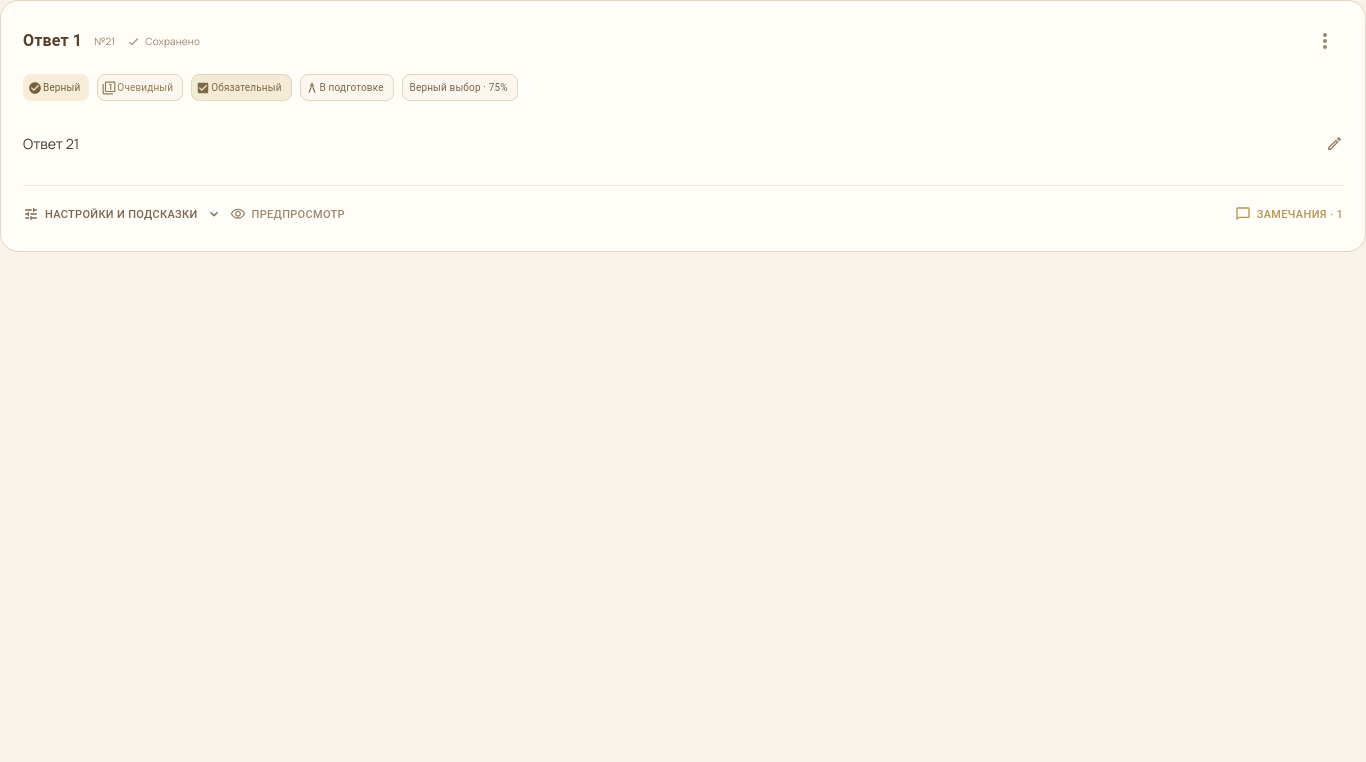
Test case: settings open and reopen with Redux drafts, and initial hydration never saves
Click the button "Настройки и подсказки" at (120, 214), box [23,199,218,229]
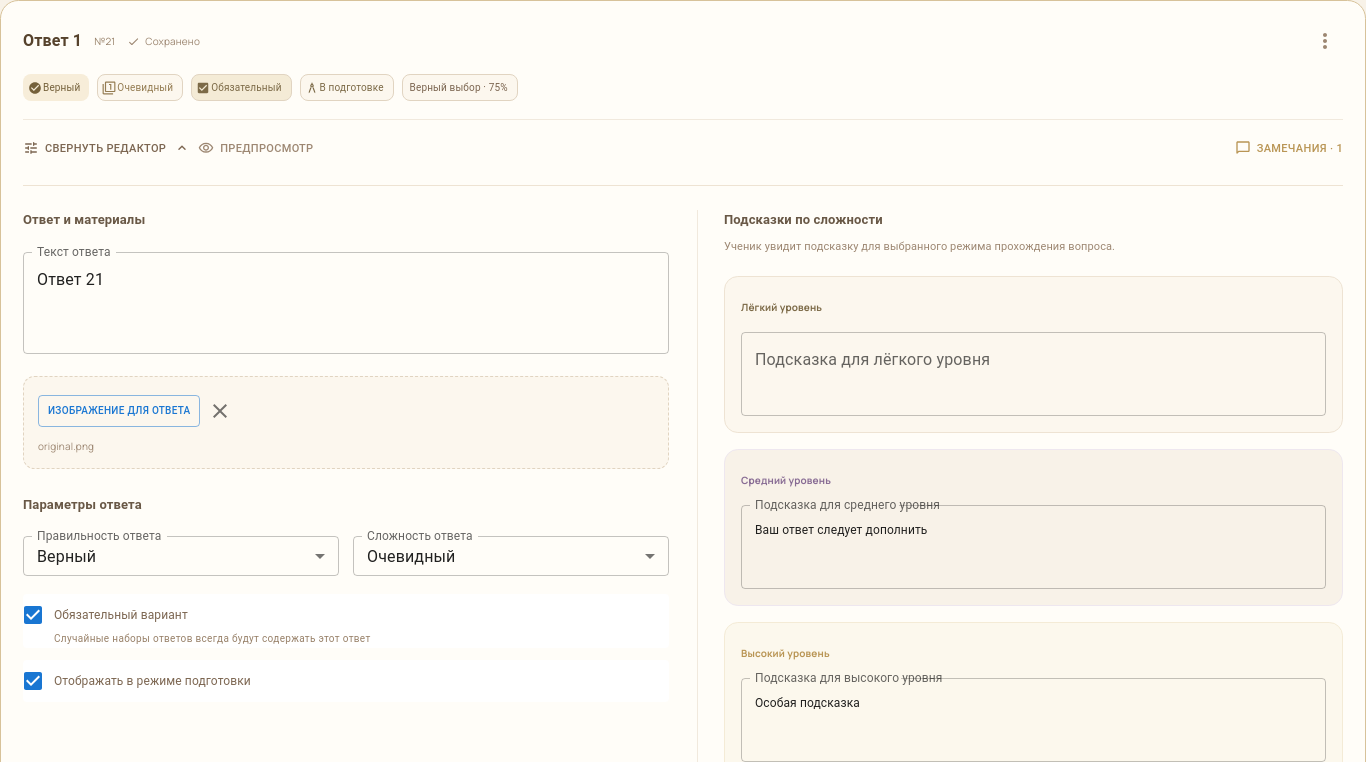
Click the button "Свернуть редактор" at (105, 148), box [23,133,186,163]
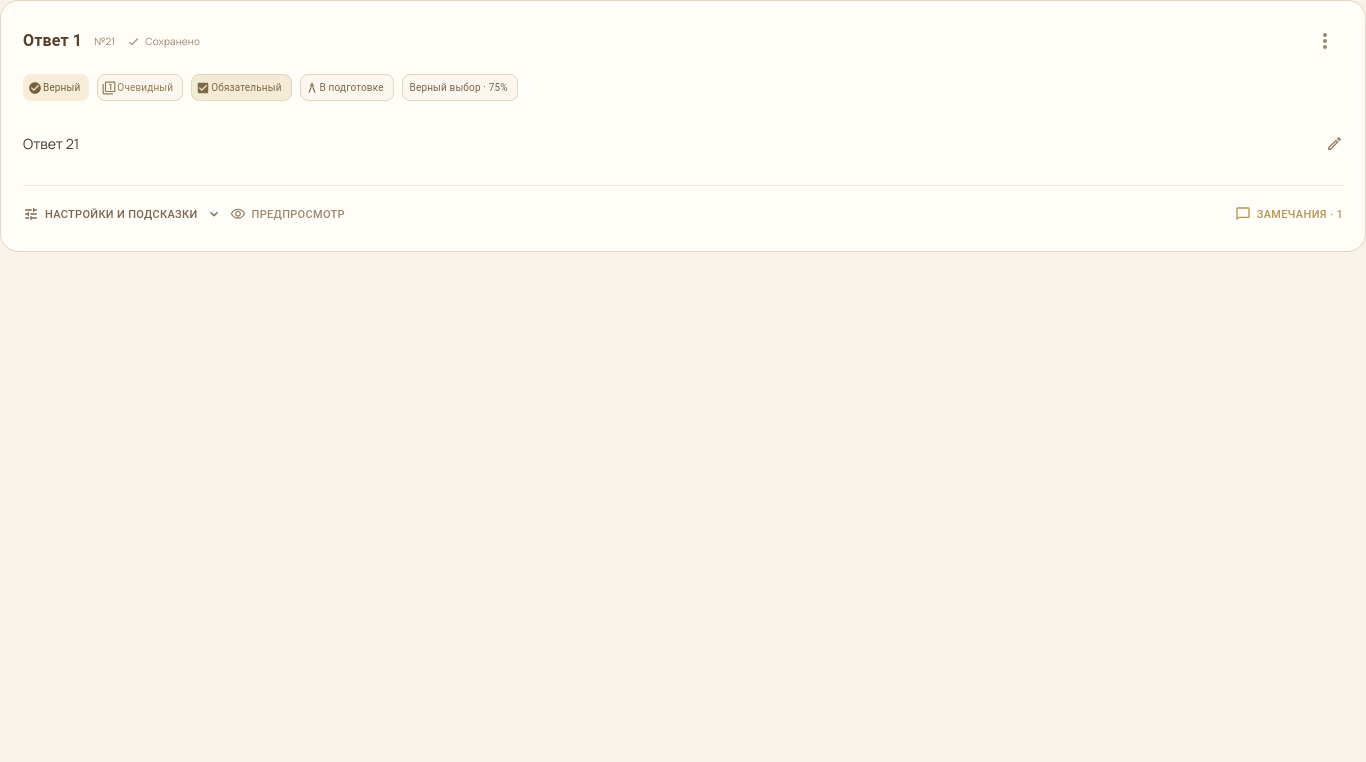
Click the button "Настройки и подсказки" at (120, 214), box [23,199,218,229]
Wait 1600 ms
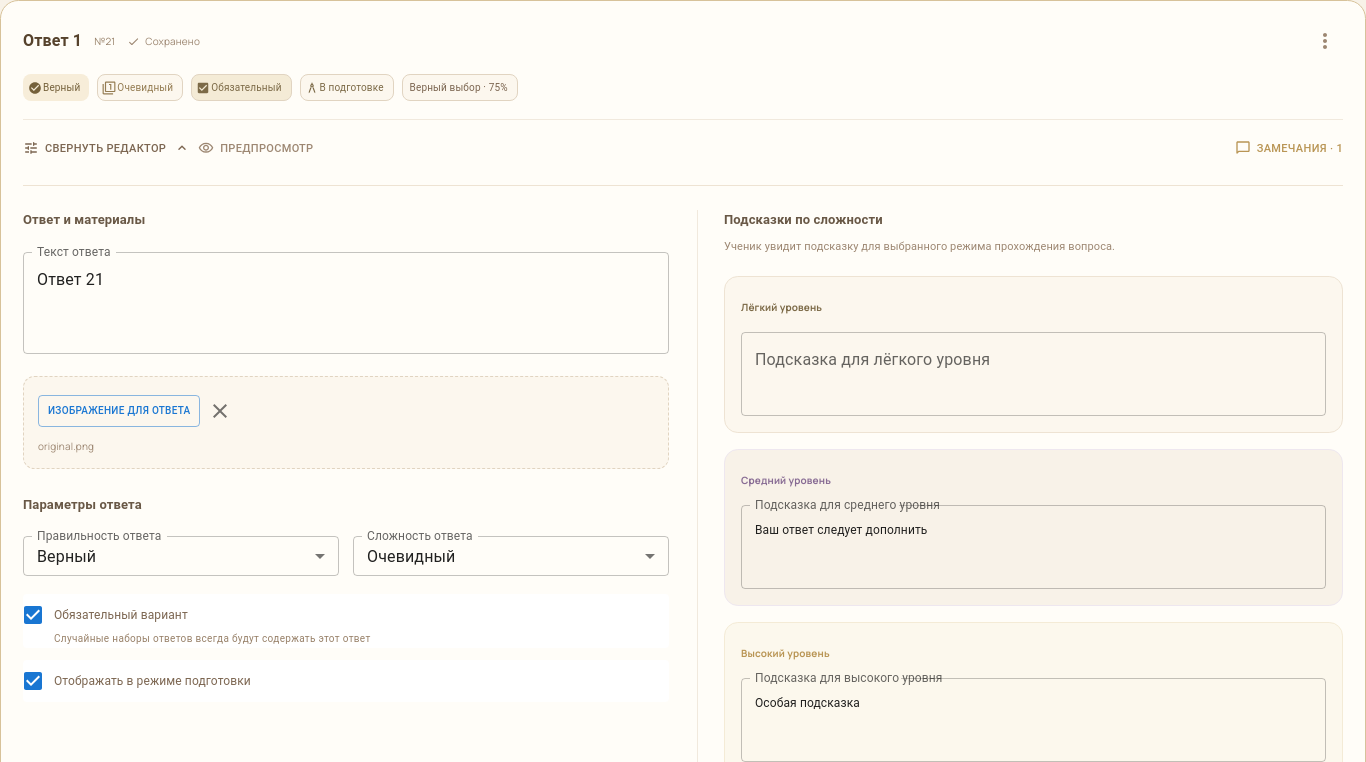
Check: the text "Верный выбор · 75%" is shown, box [403,80,517,95]
Check: the button "Свернуть редактор" is expanded, box [23,133,186,163]
